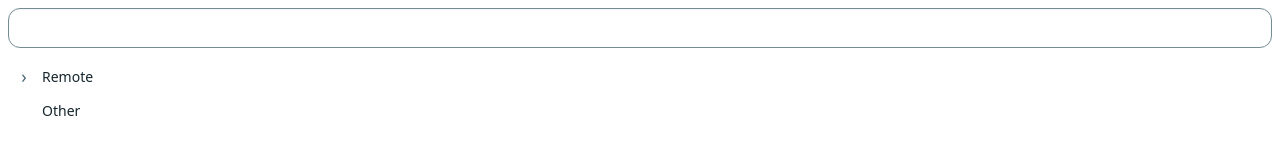
Test: Tree › lazy loads children and filters
Press Tab
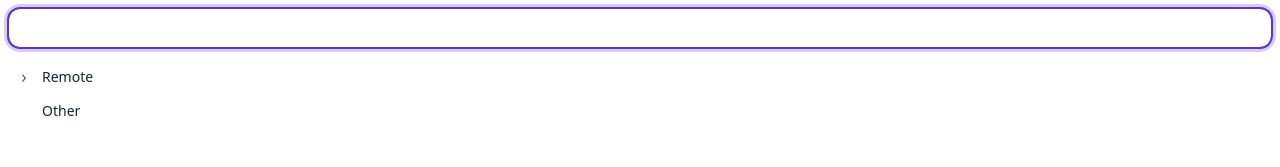
Press Tab
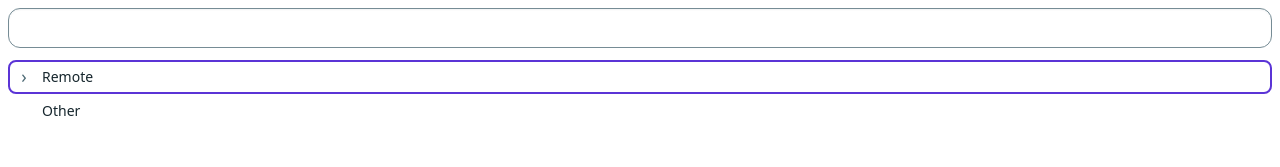
Press Arrowright
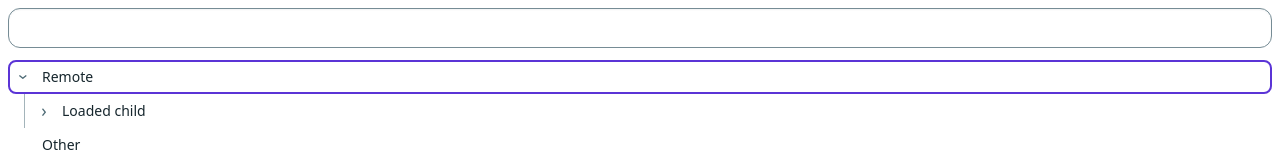
Result: the list item "Loaded child" is shown at x1=41 y1=98 x2=146 y2=122
Type "oth" into the search field named "Filter" at (640, 28), box x1=8 y1=8 x2=1272 y2=48
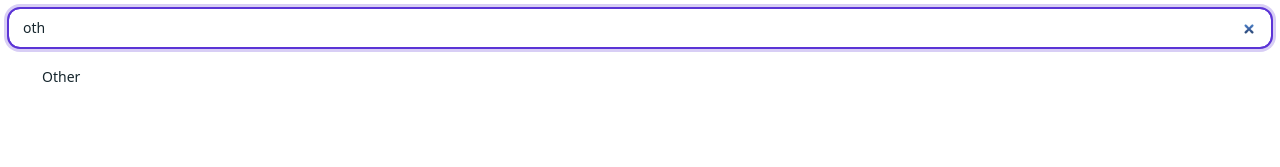
Expected: the list item "Other" is shown, x1=42 y1=67 x2=80 y2=86
Result: the text "Remote" is gone
